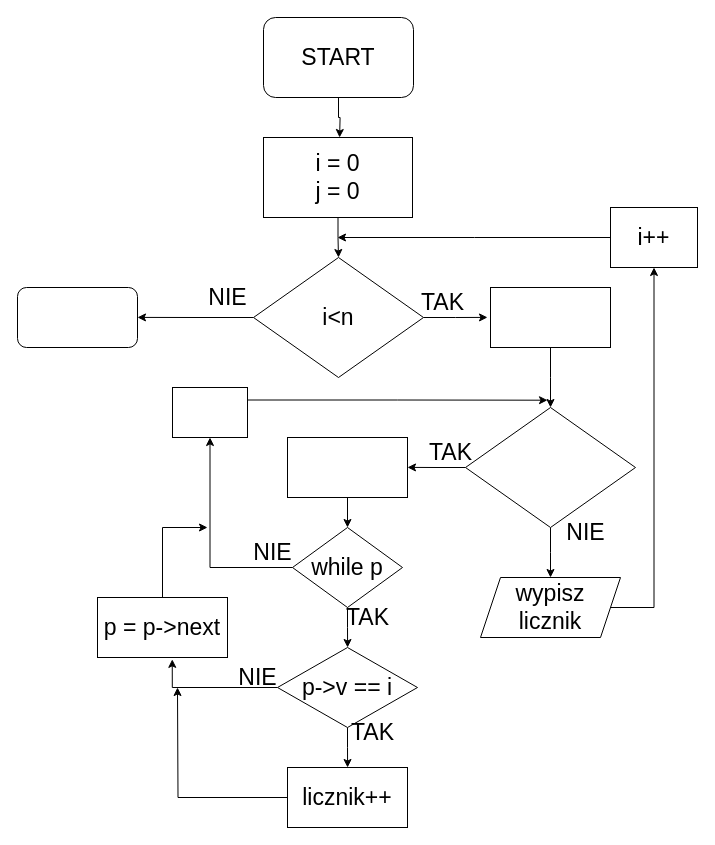
Image size: 715x845. Some labels were removed from this diagram. The shapes that lost their labels are listed below. From the top down, each one's centre as x and y in pixels, then its label:
the point at 77,317: STOP
the point at 550,317: licznik=0
the point at 210,412: j++
the point at 347,467: p = A[ j ]
the point at 550,467: j<n
